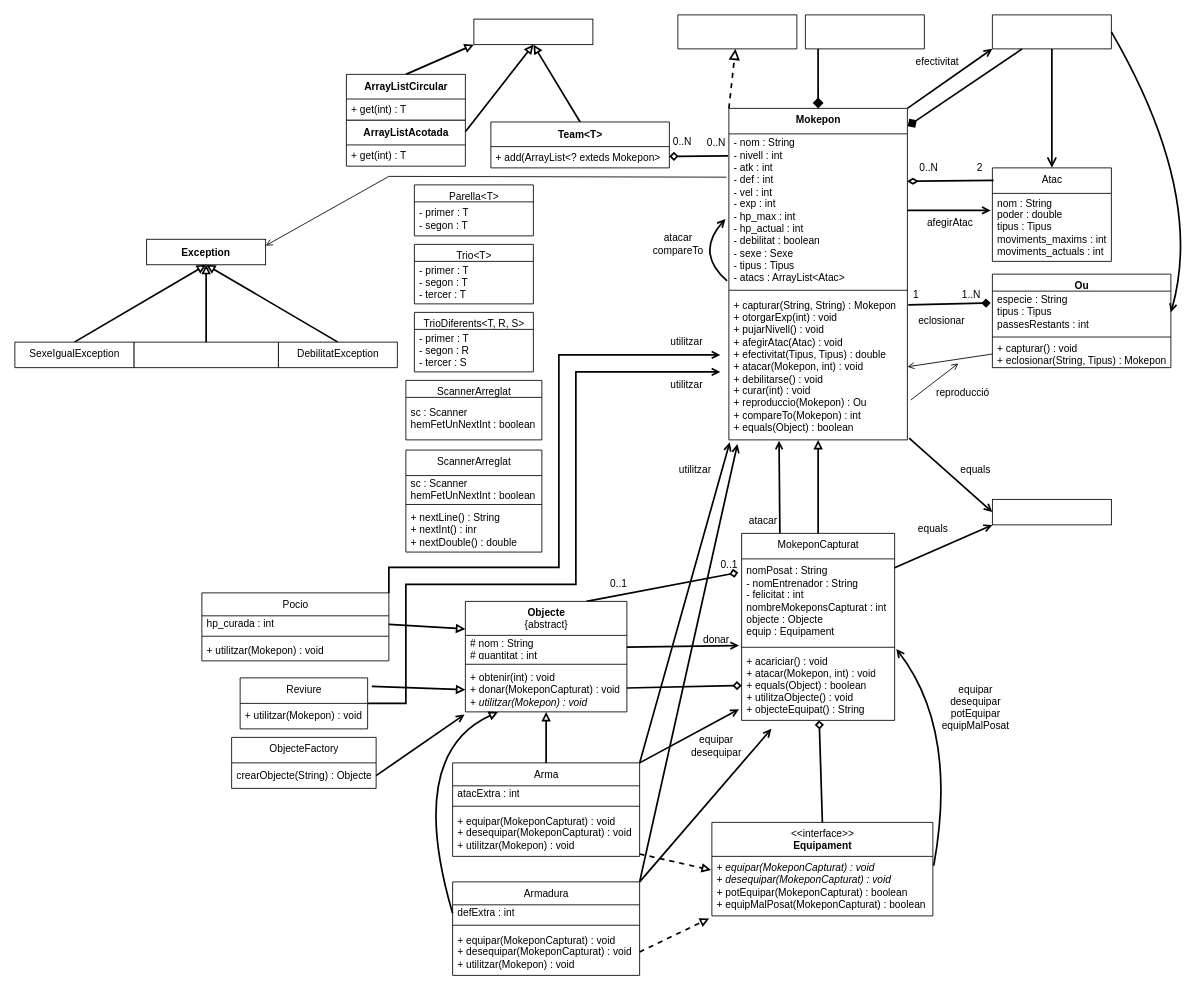
Some shapes in this 1196 by 990 pixel diagram are drawn without their labels. The shapes that lost their labels are listed below. From the top down, each one's centre as x and y in pixels, then its label:
At pixel 533 31: "ArrayList".
At pixel 737 31: "<<interface>> Comparable".
At pixel 864 31: "<<enumeration>> Sexe".
At pixel 1051 31: "<<enumeration>> Tipus".
At pixel 205 354: "PokemonJaCapturatException".
At pixel 1051 512: "Object (classe de Java)".
